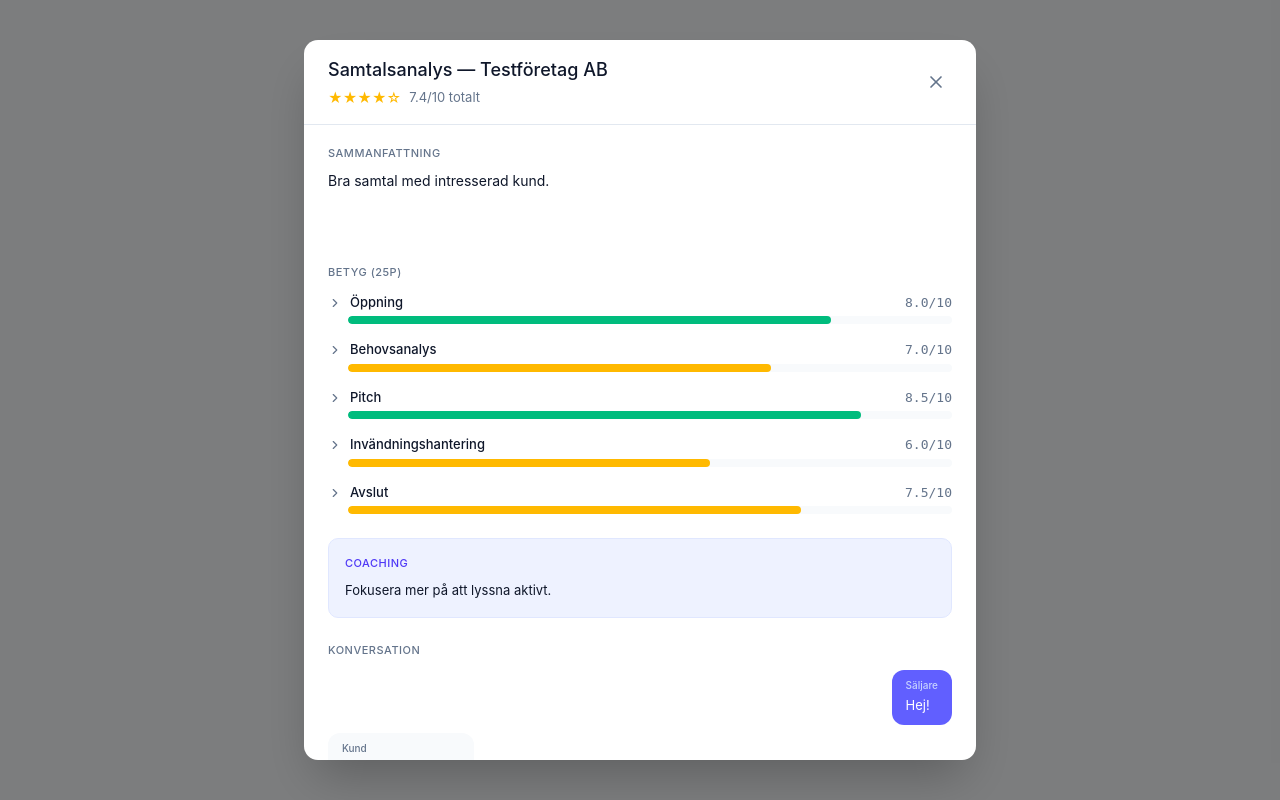
Test case: 25-point scorecard › expands a category to show sub-questions
Click the button "Öppning 8.0/10".
click(377, 302)  # box [328,293,952,312]
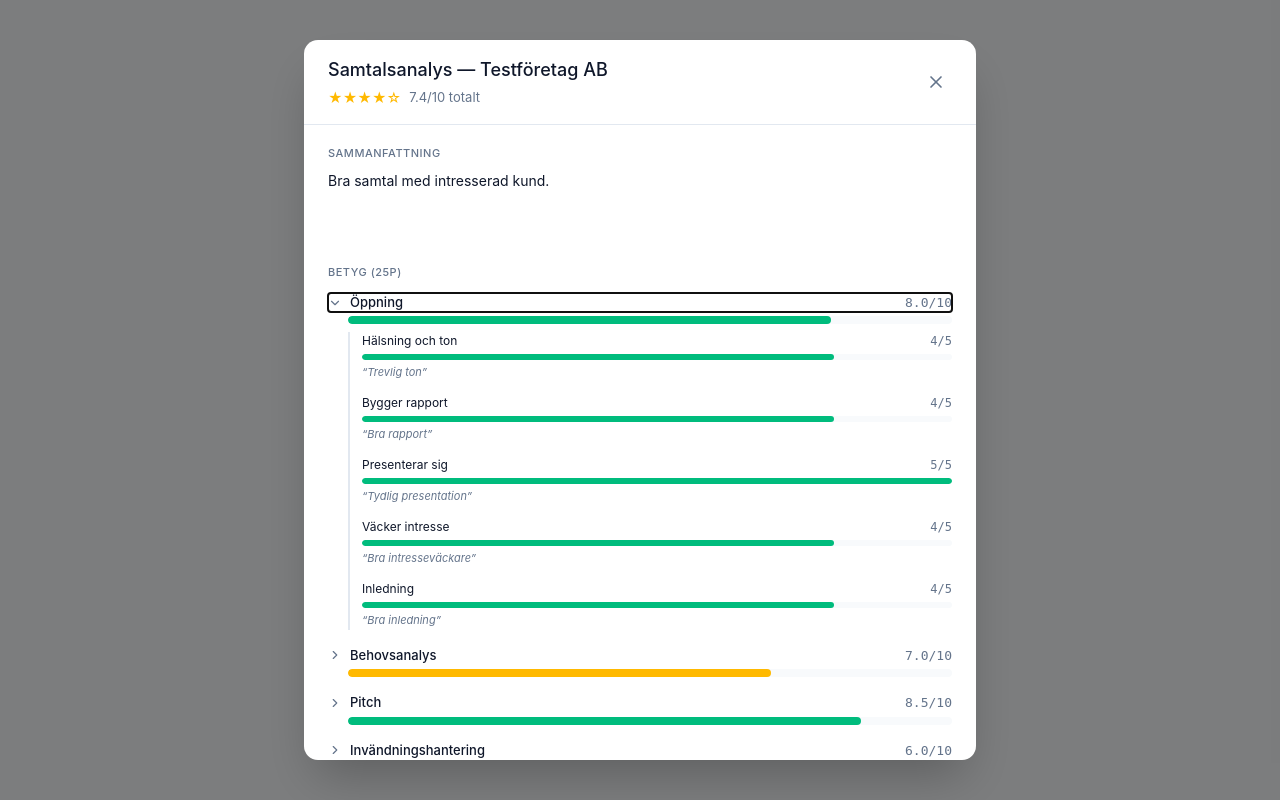
Check: the text "Hälsning och ton" is shown, box [362,332,457,350]
Check: the text "Bygger rapport" is shown, box [362,394,448,412]
